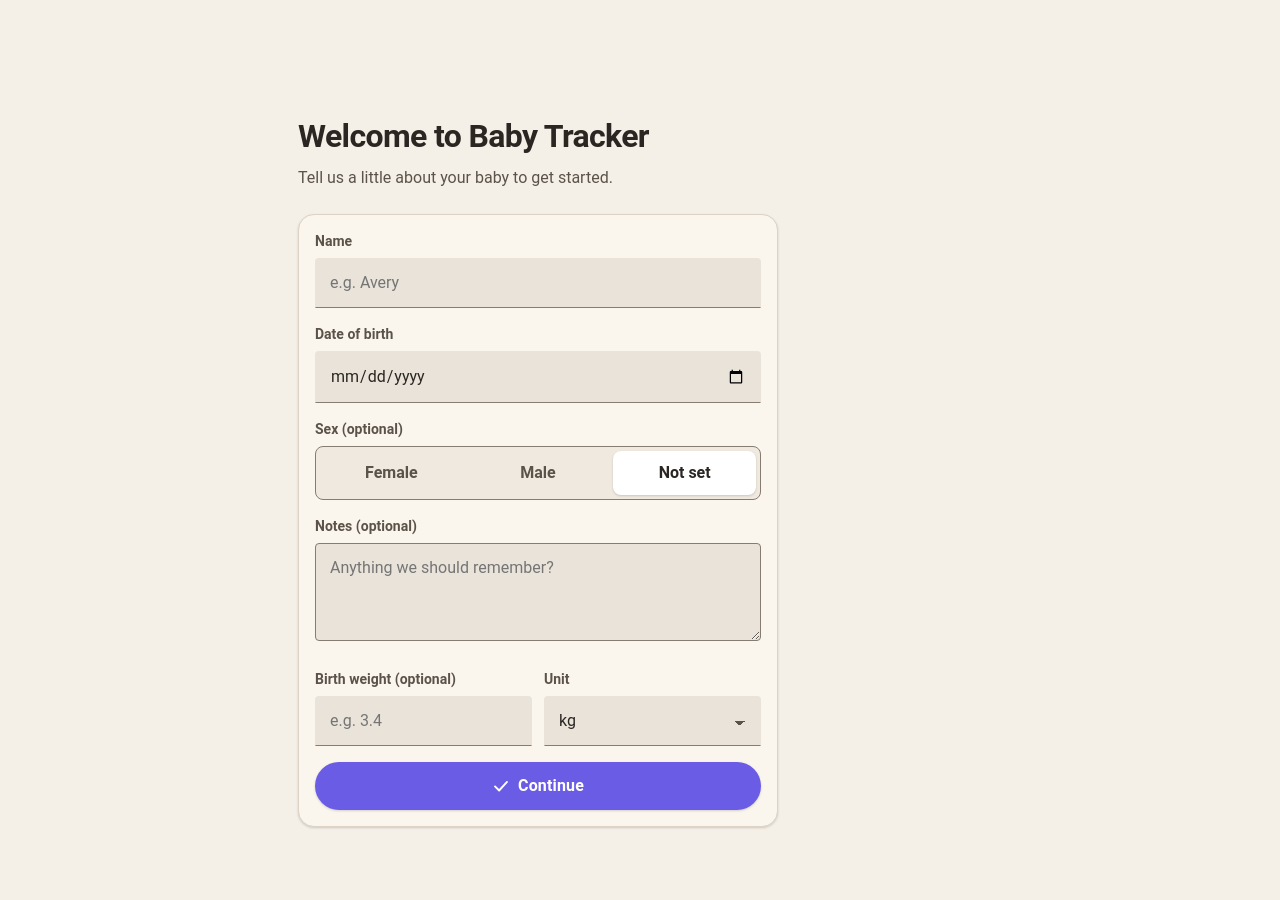
it: Baby Tracker end-to-end flow › timeline events navigate to their screen
Type "Avery" into the field labelled "Name".
click(538, 283); type("Avery")  # box left=315, top=258, right=761, bottom=308
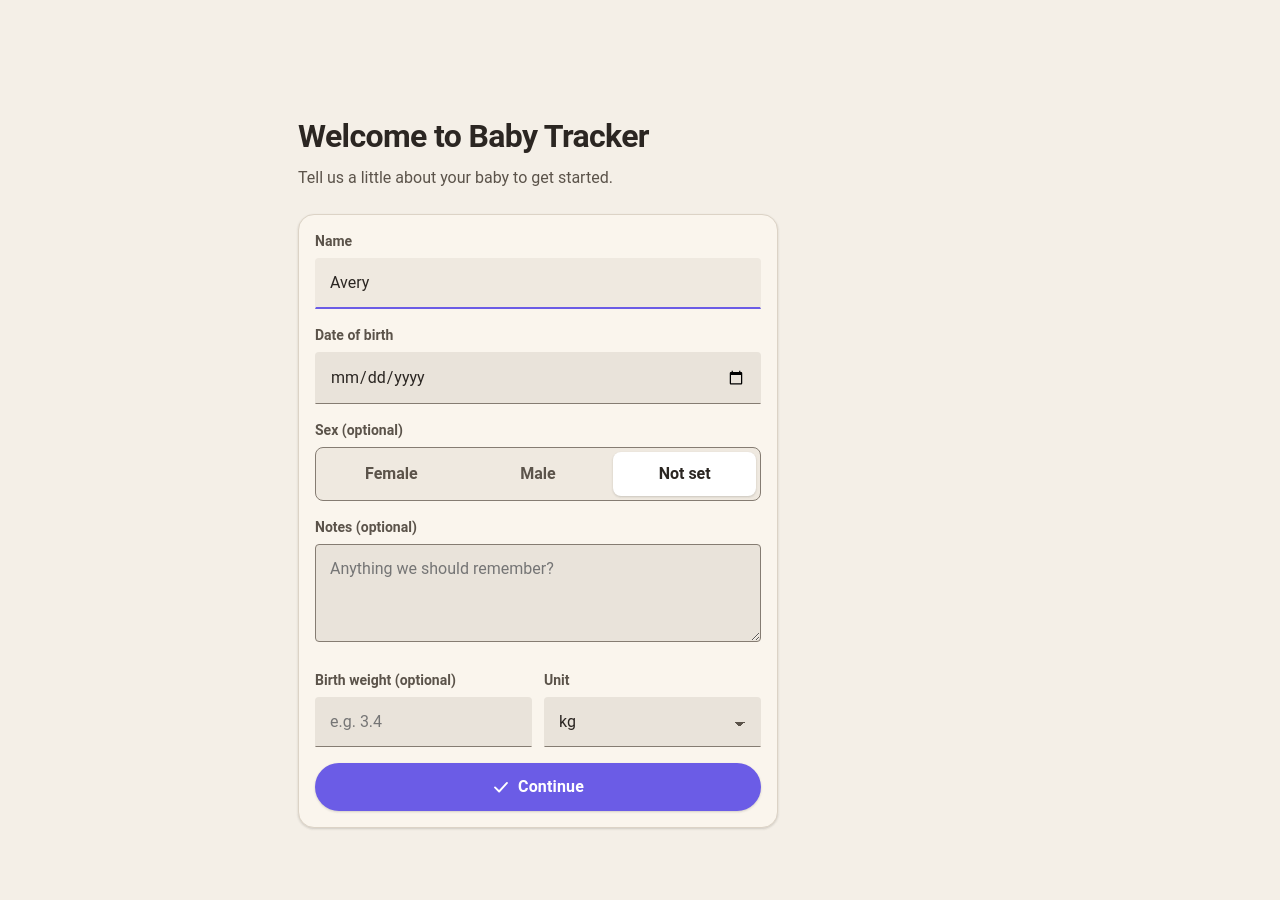
Type "2026-01-15" into the date field labelled "Date of birth".
click(538, 378); type("2026-01-15")  # box left=315, top=352, right=761, bottom=404
Click the button "Continue".
click(538, 787)  # box left=315, top=763, right=761, bottom=811
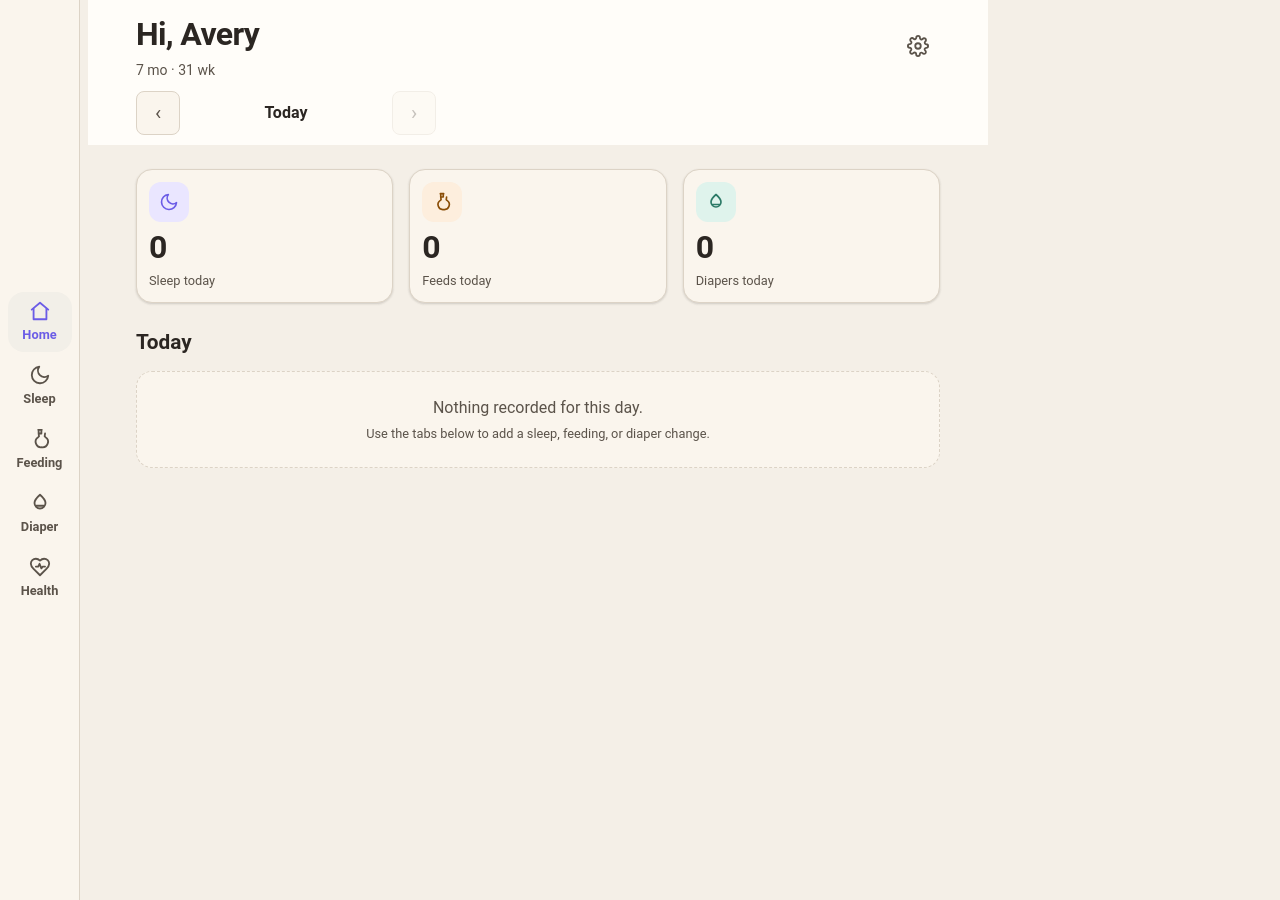
Click the button "Diaper".
click(40, 514)  # box left=8, top=484, right=72, bottom=544
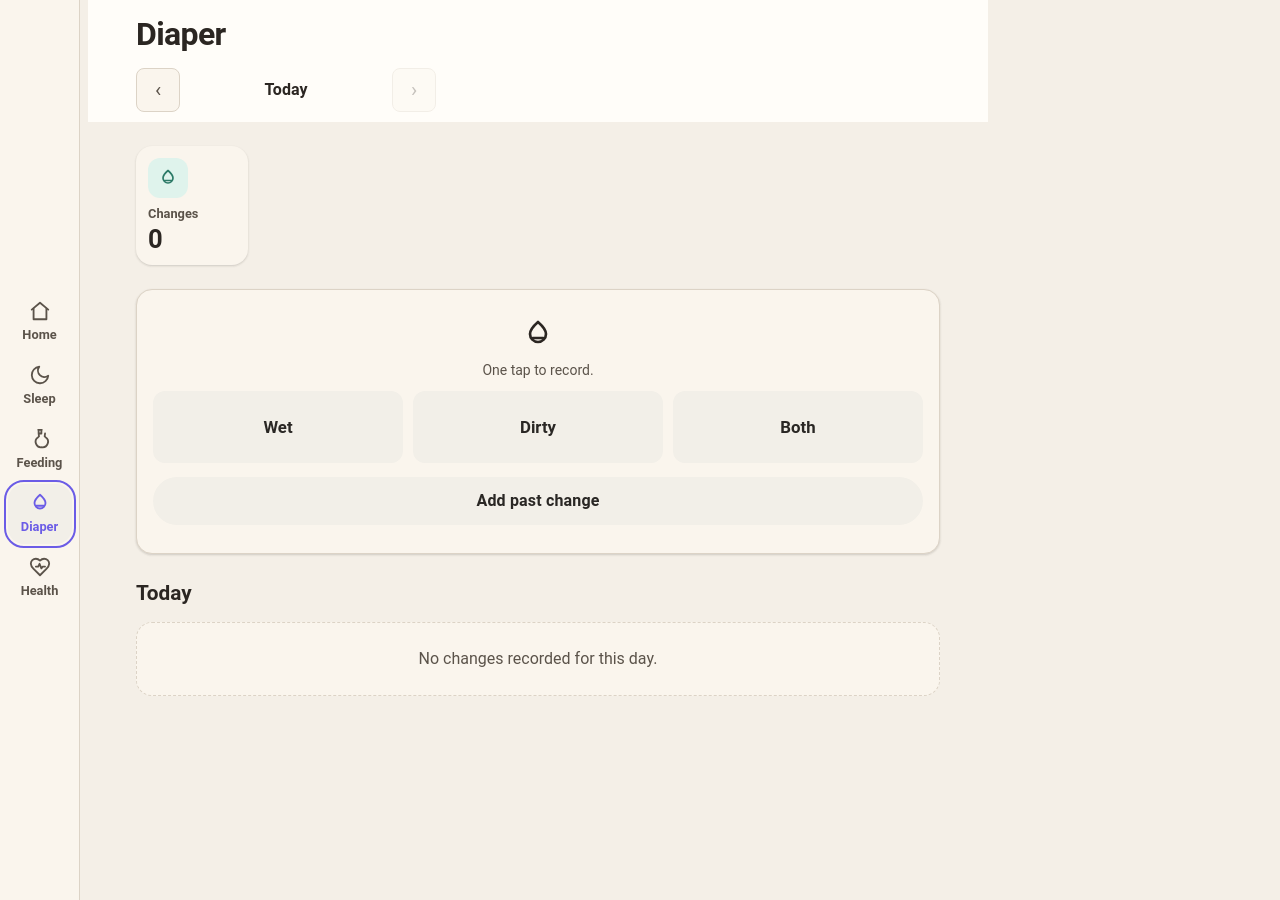
Click the button "Wet".
click(278, 427)  # box left=153, top=391, right=403, bottom=463
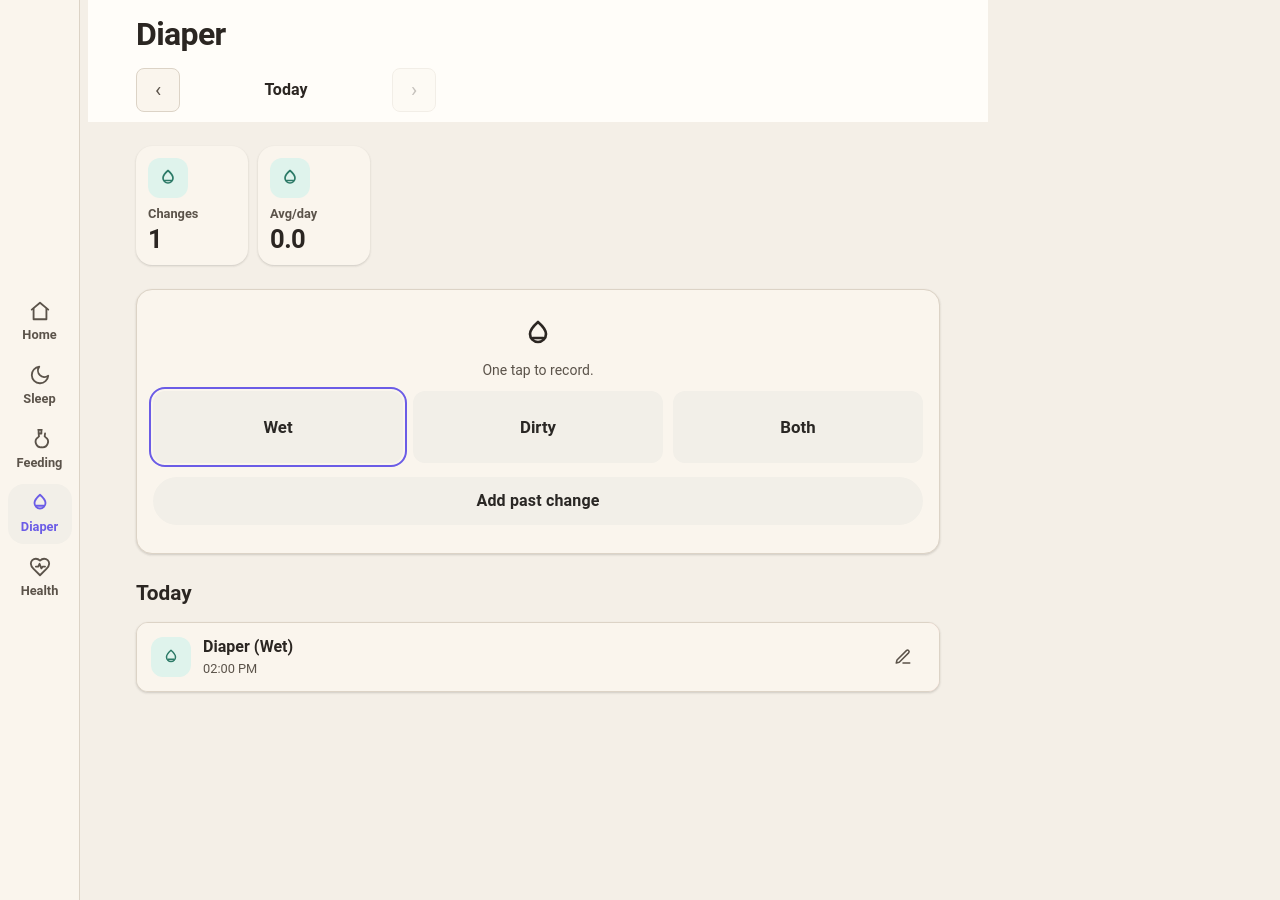
Click the button "Home".
click(40, 322)  # box left=8, top=292, right=72, bottom=352
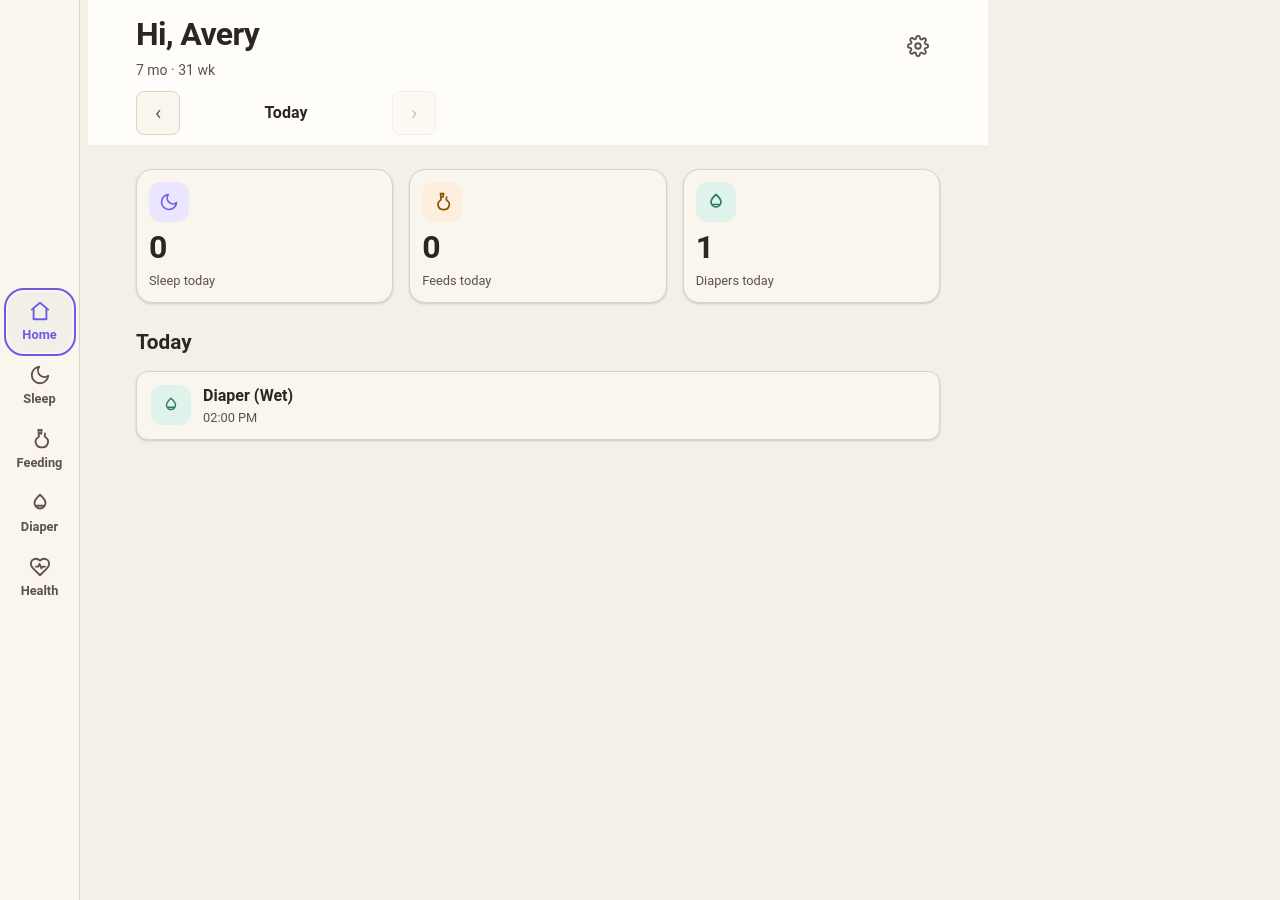
Click the button "Diaper (wet) 02:00 PM".
click(171, 405)  # box left=136, top=371, right=940, bottom=440
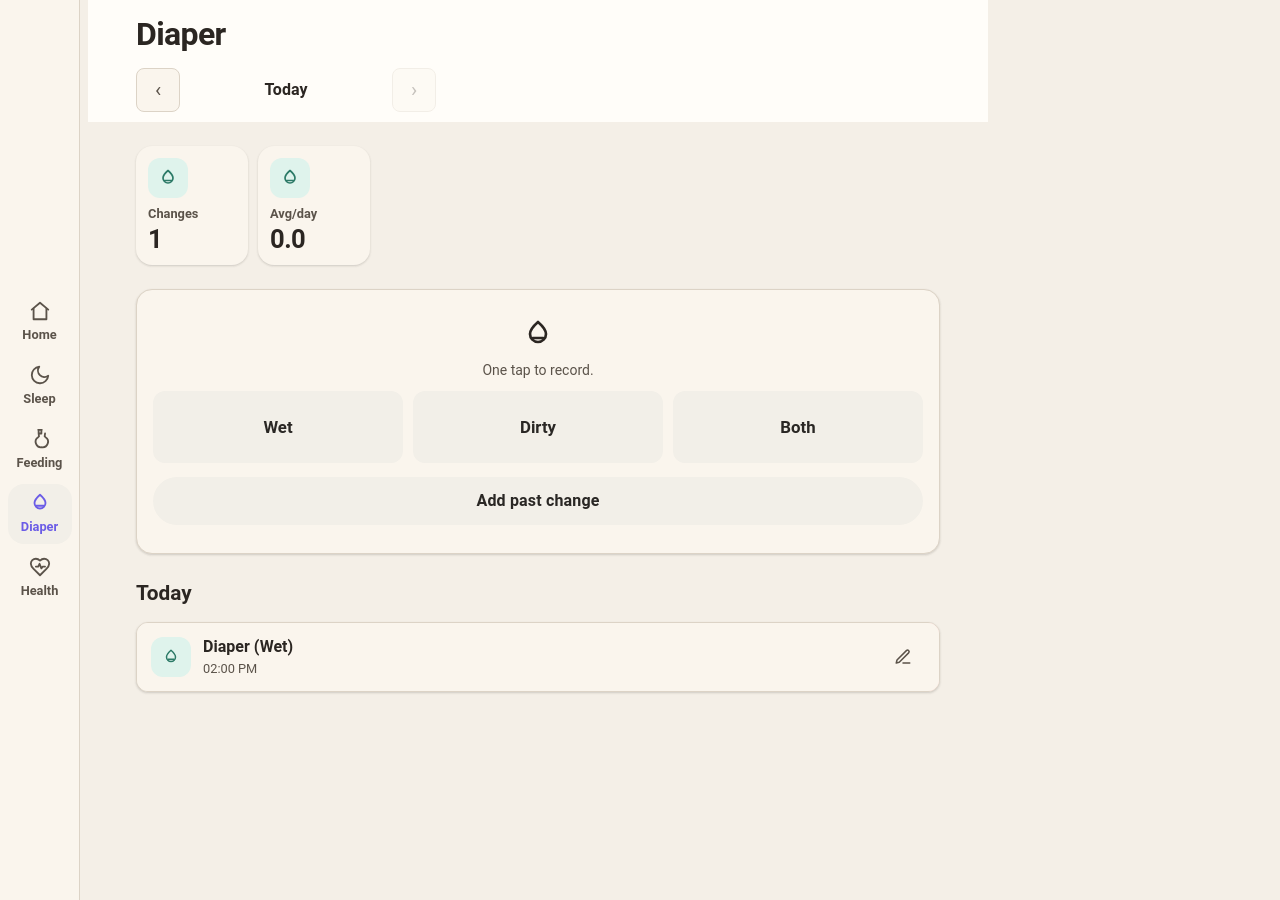
Check: the heading "Diaper" is shown, box left=136, top=15, right=226, bottom=53
